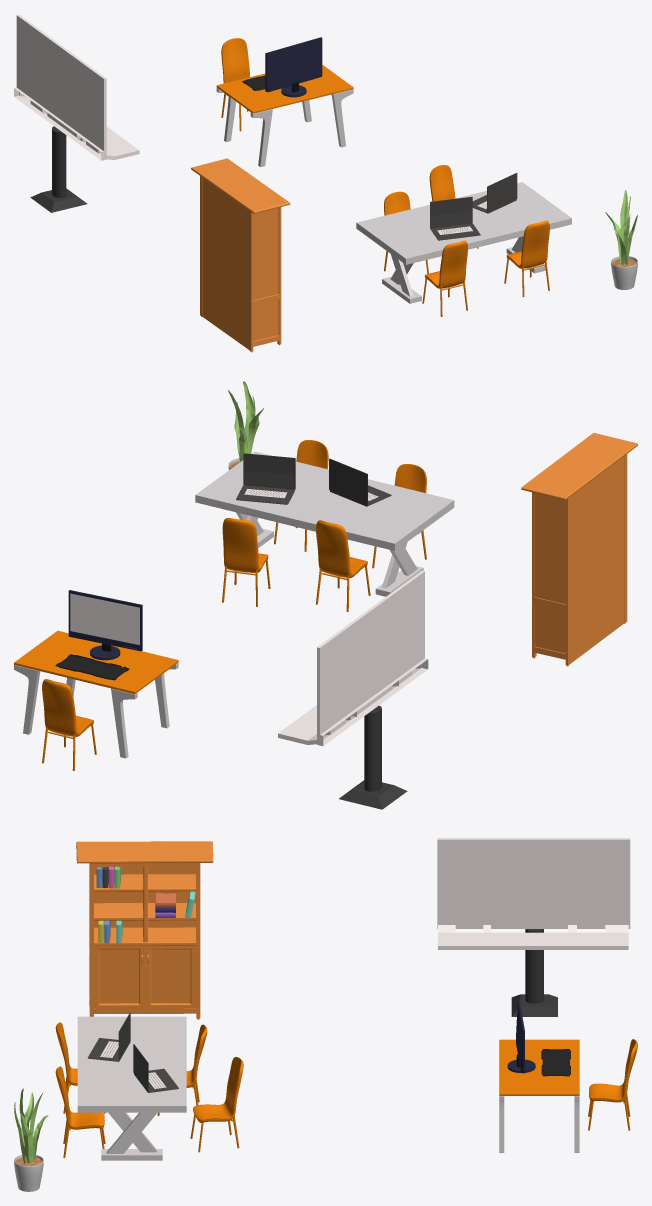
The picture shows the model from 3 angles, top to bottom: view 1: azimuth 30°, elevation 25°; view 2: azimuth 150°, elevation 25°; view 3: azimuth 270°, elevation 25°; orthographic projection. The views are drawn at different scales.
Parts seen in each view (by area): view 1: Plane.002, Cube.003, Table10, Plane.008, Plane.003, Plane.007, Plane.019, Plane.018, body.003, Plane.012, Cylinder.002, body.005 (+6 smaller); view 2: Plane.002, Cube.003, Table10, Plane.008, Plane.004, Plane.007, Plane.010, Plane.012, Plane.017, body.005, body.003, Cylinder.002 (+7 smaller); view 3: Cube.003, Plane.002, Table10, Plane.008, Plane.010, Plane.000, Cylinder.002, Plane.012, Plane.019, body.005, Cube.002, body.003 (+5 smaller).
Boxes of the visible parts, bbox=[...] form: Plane.002: bbox=[191, 158, 290, 352]; Cube.003: bbox=[14, 14, 139, 160]; Table10: bbox=[356, 182, 571, 303]; Plane.008: bbox=[216, 65, 353, 113]; Plane.003: bbox=[265, 37, 322, 92]; Plane.007: bbox=[216, 87, 353, 166]; Plane.019: bbox=[506, 220, 549, 268]; Plane.018: bbox=[424, 240, 467, 288]; body.003: bbox=[430, 196, 480, 240]; Plane.012: bbox=[221, 38, 249, 96]; Cylinder.002: bbox=[52, 126, 66, 197]; body.005: bbox=[472, 173, 517, 213]; Plane.002: bbox=[521, 433, 637, 666]; Cube.003: bbox=[278, 570, 428, 746]; Table10: bbox=[195, 451, 454, 596]; Plane.008: bbox=[14, 630, 178, 693]; Plane.004: bbox=[70, 593, 139, 644]; Plane.007: bbox=[14, 662, 178, 758]; Plane.010: bbox=[222, 518, 268, 572]; Plane.012: bbox=[42, 679, 93, 736]; Plane.017: bbox=[316, 520, 367, 577]; body.005: bbox=[236, 453, 295, 504]; body.003: bbox=[329, 458, 391, 505]; Cylinder.002: bbox=[364, 705, 381, 791]; Cube.003: bbox=[437, 838, 630, 949]; Plane.002: bbox=[76, 841, 213, 1019]; Table10: bbox=[77, 1016, 186, 1160]; Plane.008: bbox=[499, 1039, 579, 1095]; Plane.010: bbox=[193, 1057, 243, 1122]; Plane.000: bbox=[14, 1088, 48, 1163]; Cylinder.002: bbox=[525, 929, 543, 1003]; Plane.012: bbox=[589, 1039, 637, 1102]; Plane.019: bbox=[55, 1066, 104, 1129]; body.005: bbox=[133, 1044, 178, 1092]; Cube.002: bbox=[511, 994, 557, 1016]; body.003: bbox=[88, 1012, 130, 1061].
Size of the model in its own units: 38.06 by 15.48 by 50.95.
